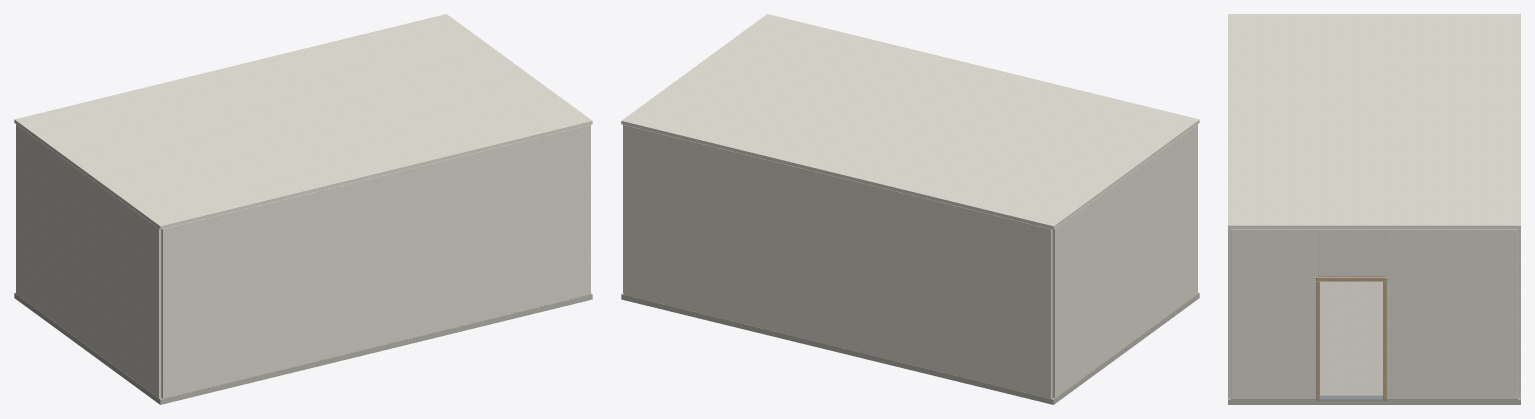
File: room.glb
3 views of the same model, side by side, from view 1: azimuth 30°, elevation 25°; view 2: azimuth 150°, elevation 25°; view 3: azimuth 270°, elevation 25° (orthographic).
Visible parts, largest first — view 1: Interior.LongWall.001, Interior.ManagementCeiling, Interior.WestWall, Interior.ManagementFloor; view 2: Interior.LongWall, Interior.ManagementCeiling, Interior.WestWall, Interior.ManagementFloor; view 3: Interior.ManagementCeiling, Interior.EastShell.Management_plaster, Interior.ManagementFloor, Interior.EastShell.Management_oak, Interior.LongWall, Interior.LongWall.001, Interior.EntryThreshold.
Boxes of the visible parts, x1,y1,x2,y2 form: Interior.LongWall.001: (161,125,589,398); Interior.ManagementCeiling: (14,14,592,229); Interior.WestWall: (16,124,161,398); Interior.ManagementFloor: (14,292,592,404); Interior.LongWall: (624,125,1052,398); Interior.ManagementCeiling: (621,14,1199,229); Interior.WestWall: (1052,124,1197,398); Interior.ManagementFloor: (621,292,1199,404); Interior.ManagementCeiling: (1228,14,1520,228); Interior.EastShell.Management_plaster: (1231,229,1517,399); Interior.ManagementFloor: (1228,281,1520,404); Interior.EastShell.Management_oak: (1316,277,1387,400); Interior.LongWall: (1518,229,1520,398); Interior.LongWall.001: (1228,229,1230,398); Interior.EntryThreshold: (1320,395,1383,400).
Bounding box in the file's own units: 10.15 × 4 × 5.92.
Materials: 22 (12 with a texture image).
